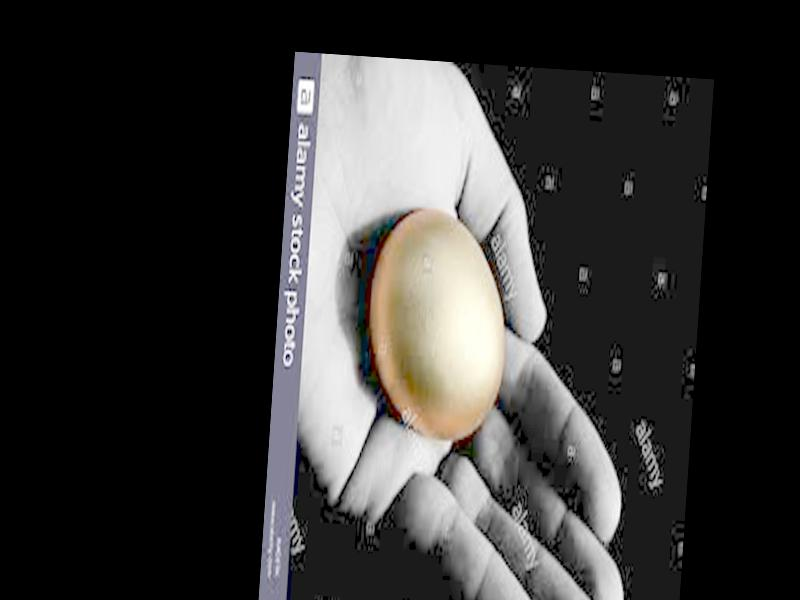Eggs: (364, 208, 513, 444)
